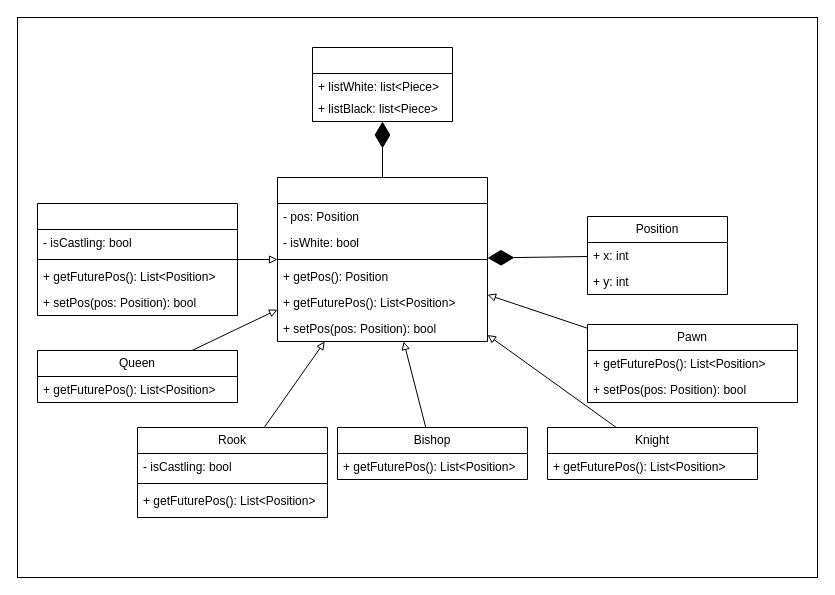
Image size: 835x595. Some labels were removed from this diagram. Here are the shapes that lost their labels. From the top down, the box of each, then its label:
(312, 46, 452, 122): Board
(36, 202, 238, 316): King
(276, 176, 488, 342): Piece
